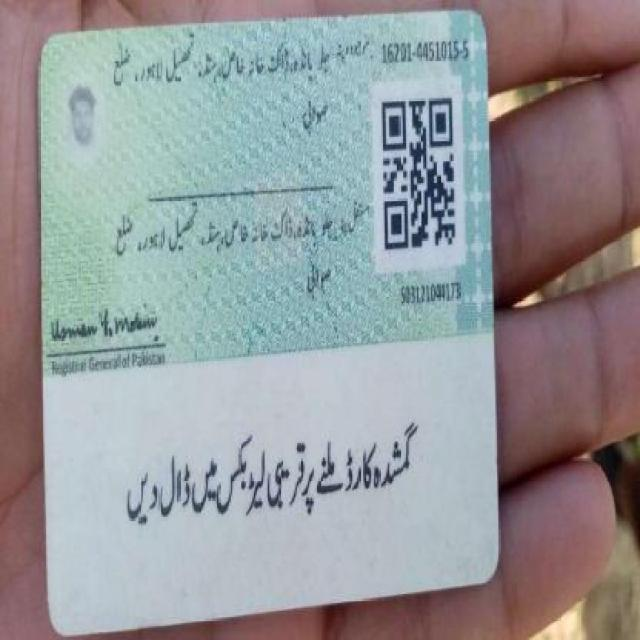Back: (32, 0, 505, 600)
